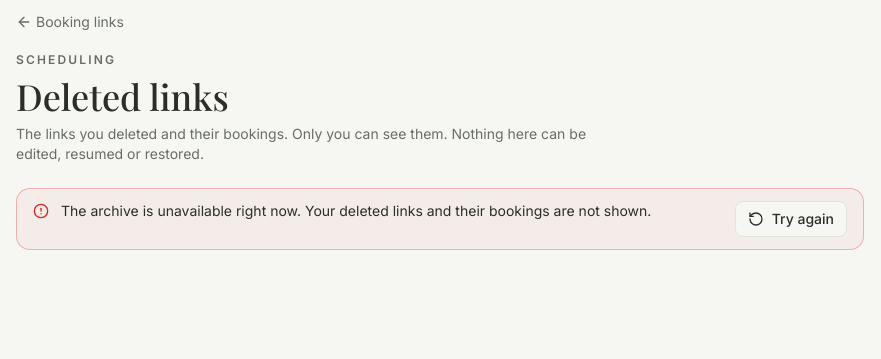
Test: PAC-40 archive page › an older server's 400 shows 'archive unavailable' (contract section 7), and Try again reads again
The image size is (881, 359).
Click the button "Try again": (791,219) [735,201,847,237]
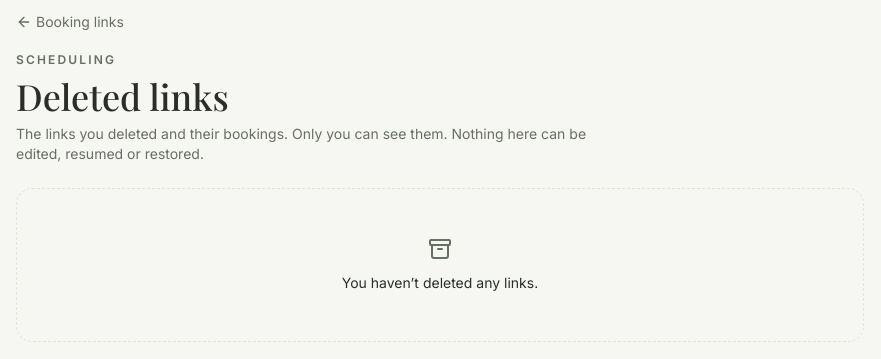
Expected: the element with test id "archive-empty" is shown, [16,188,864,342]
